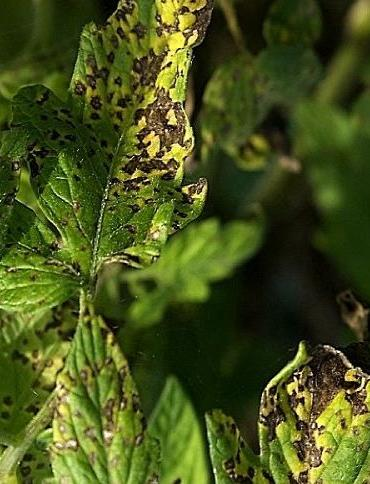Tomato Septoria leaf spot: (43, 0, 225, 284), (203, 337, 370, 484), (48, 285, 162, 484)
